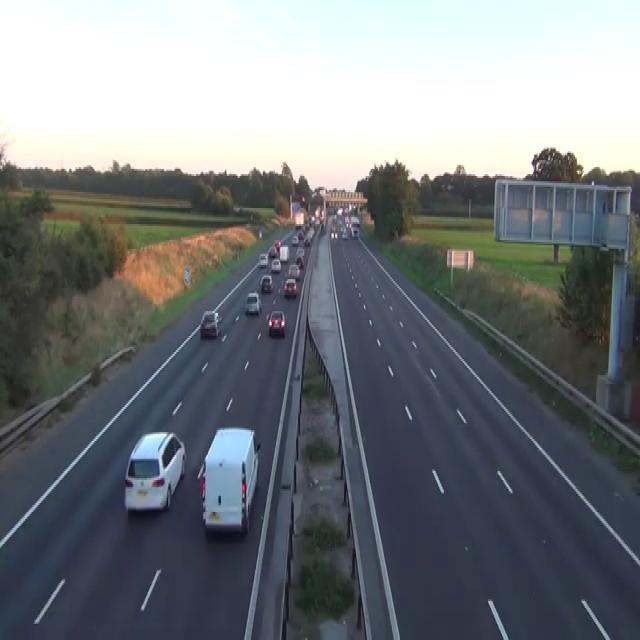Car: (124, 430, 186, 512), (329, 206, 360, 242), (199, 309, 222, 338), (267, 309, 285, 338), (244, 292, 261, 314), (283, 277, 297, 297), (260, 274, 272, 292), (287, 263, 299, 279), (295, 247, 304, 267), (271, 258, 281, 272), (258, 252, 268, 266), (350, 215, 360, 228), (268, 245, 276, 258), (295, 247, 304, 258), (330, 228, 338, 240), (295, 256, 303, 268), (350, 226, 358, 238), (273, 240, 281, 251), (291, 235, 299, 245), (341, 228, 347, 240), (304, 235, 310, 245), (297, 230, 304, 238), (310, 215, 315, 224), (259, 230, 262, 238)
Truck: (198, 427, 261, 535), (294, 210, 304, 228), (279, 246, 289, 262)
